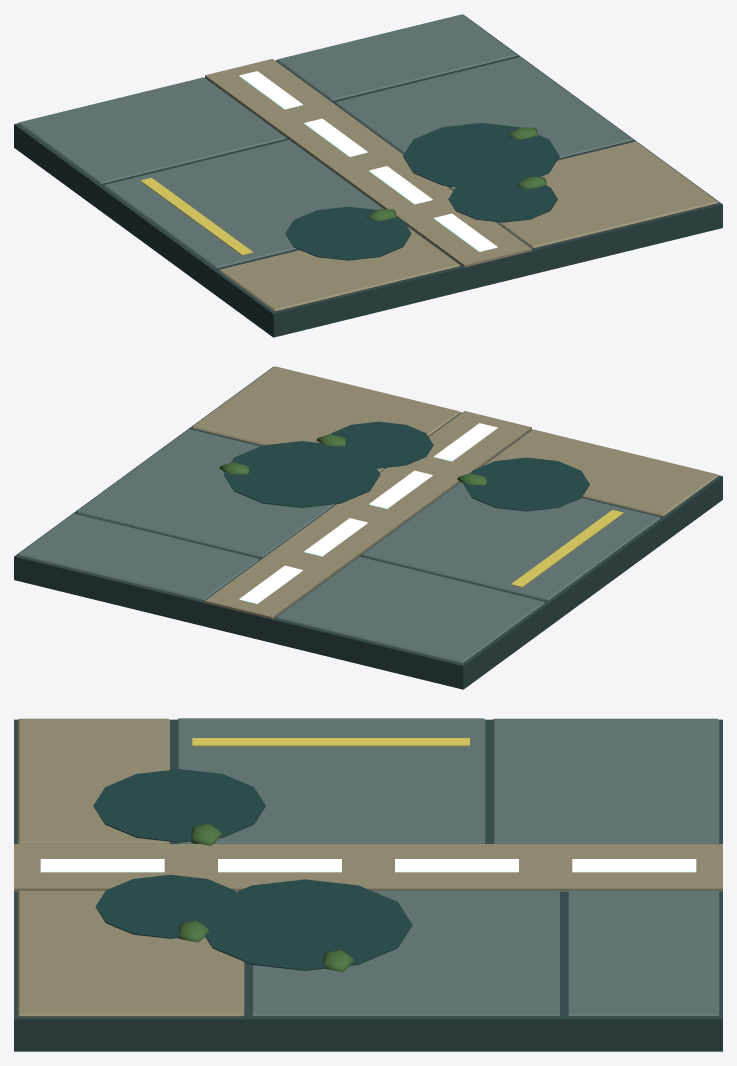
The model's file is floor_dr_glow.glb.
The picture shows the model from 3 angles, top to bottom: view 1: azimuth 30°, elevation 25°; view 2: azimuth 150°, elevation 25°; view 3: azimuth 270°, elevation 25°; orthographic projection. The views are drawn at different scales.
Parts seen in each view (by area): view 1: floor_dr_glow; view 2: floor_dr_glow; view 3: floor_dr_glow.
Boxes of the visible parts, x1,y1,x2,y2 form: floor_dr_glow: (14,14,722,337); floor_dr_glow: (14,366,722,689); floor_dr_glow: (14,718,722,1051).
Bounding box in the file's own units: 4 × 0.27 × 4.
